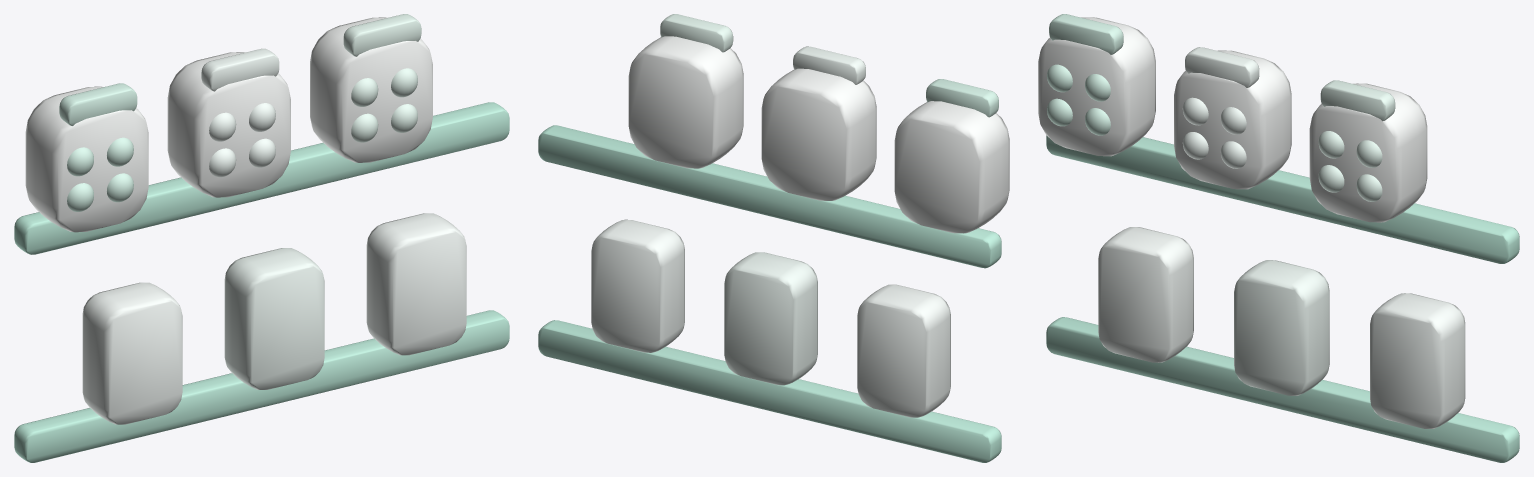
File: decor_3_mint.glb
The picture shows the model from 3 angles, left to right: view 1: azimuth 30°, elevation 25°; view 2: azimuth 150°, elevation 25°; view 3: azimuth 330°, elevation 25°; orthographic projection. The views are drawn at different scales.
Visible parts, largest first — view 1: decor_3_mint; view 2: decor_3_mint; view 3: decor_3_mint.
Part boxes in pixels (x1,y1,x2,y2): decor_3_mint: (14,14,509,462); decor_3_mint: (538,14,1009,462); decor_3_mint: (1038,14,1519,462).
Size of the model in its own units: 17.08 by 12.47 by 2.26.
